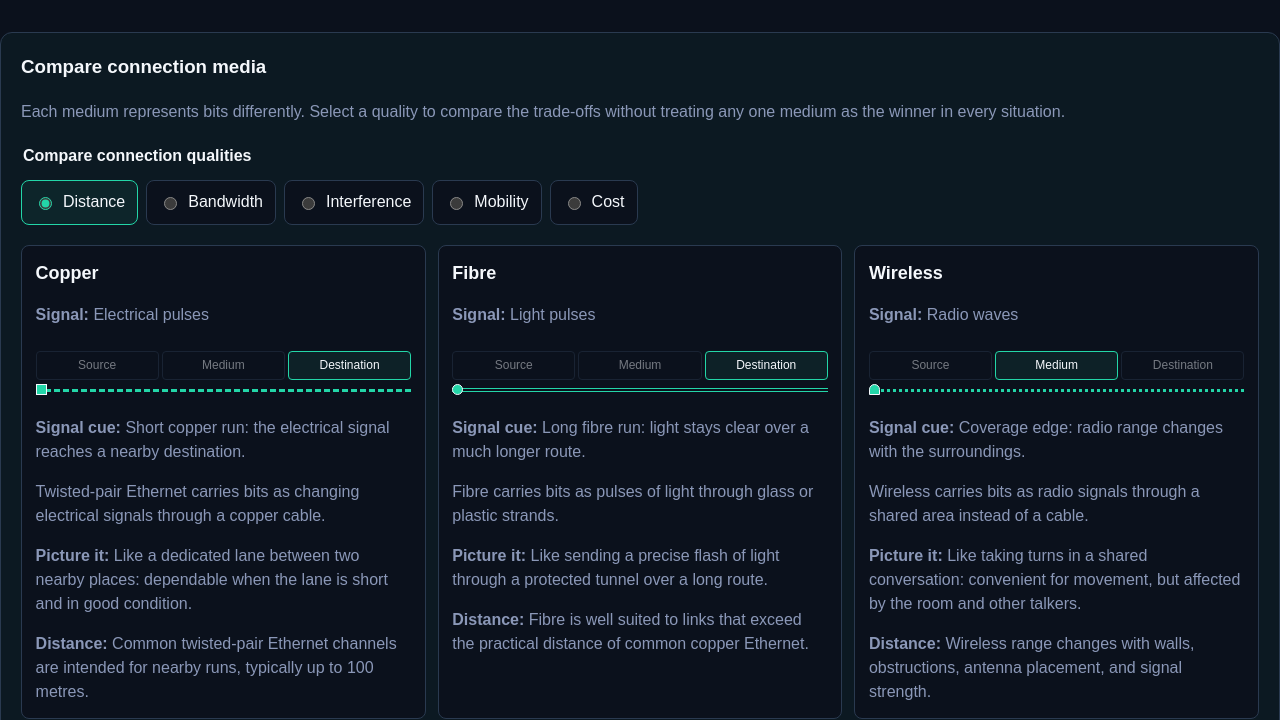
Test case: ConnectionMediaComparison › changes each panel's descriptive signal cue for every comparison quality
The width and height of the screenshot is (1280, 720).
Step 1. Click the radio button labelled "Distance" → (46, 204), box [39,197,52,210]
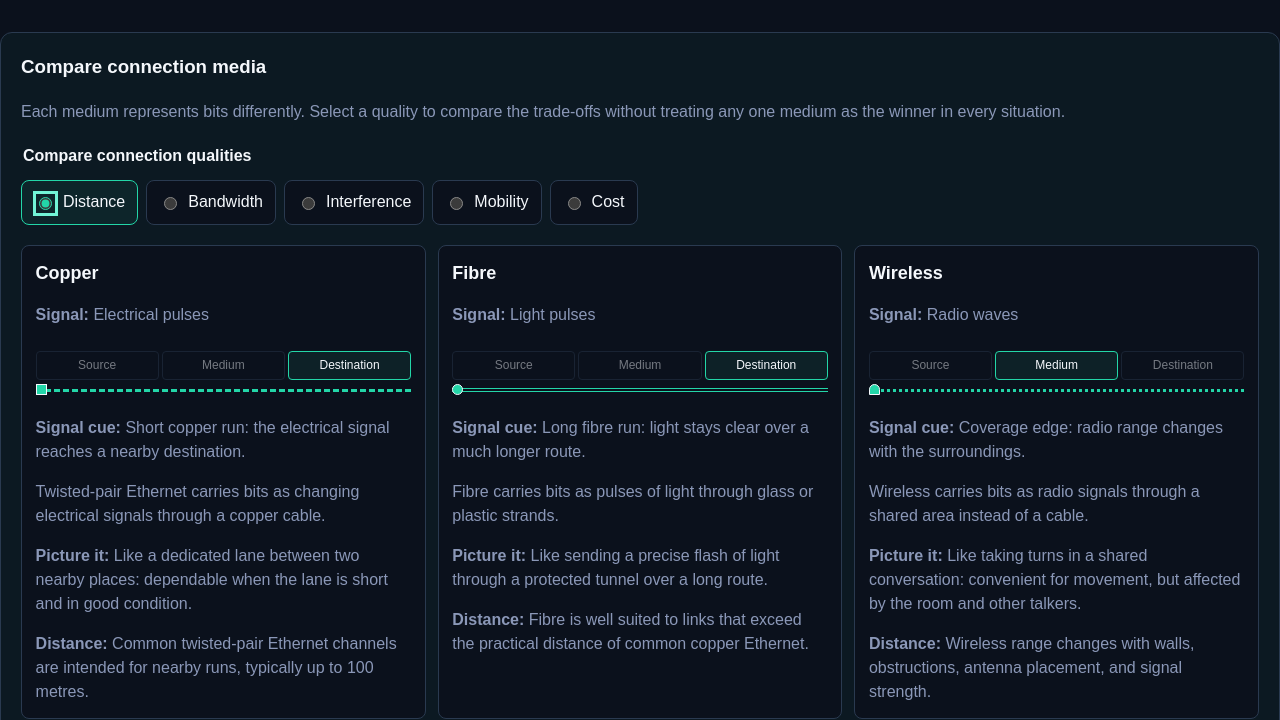
Expected: the element "Copper" is shown, [21,245,426,719]
Expected: the text "Short copper run: the electrical signal reaches a nearby destination." is shown, [36,419,390,460]
Step 2. Click the radio button labelled "Bandwidth" → (171, 204), box [164,197,177,210]
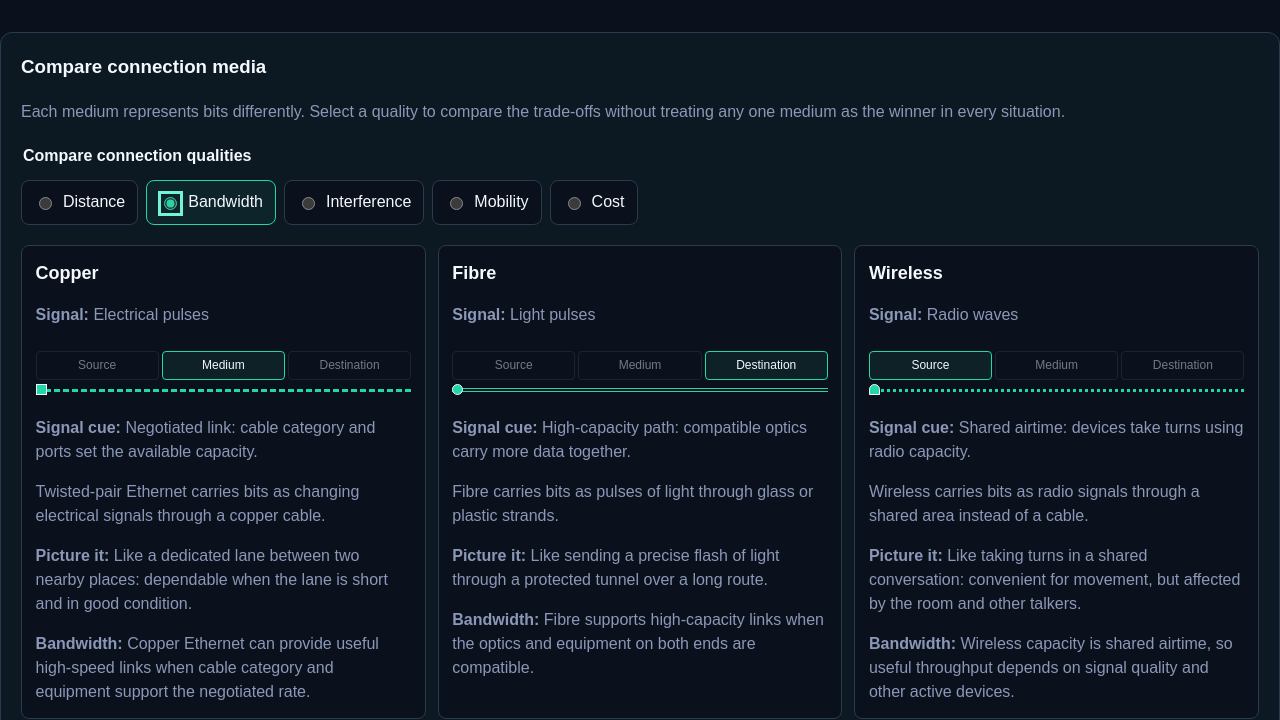
Now the text "Negotiated link: cable category and ports set the available capacity." is shown, box [36,419,375,460]
Now the text "High-capacity path: compatible optics carry more data together." is shown, box [452,419,807,460]
Now the text "Shared airtime: devices take turns using radio capacity." is shown, box [869,419,1243,460]
Step 3. Click the radio button labelled "Interference" → (308, 204), box [302,197,315,210]
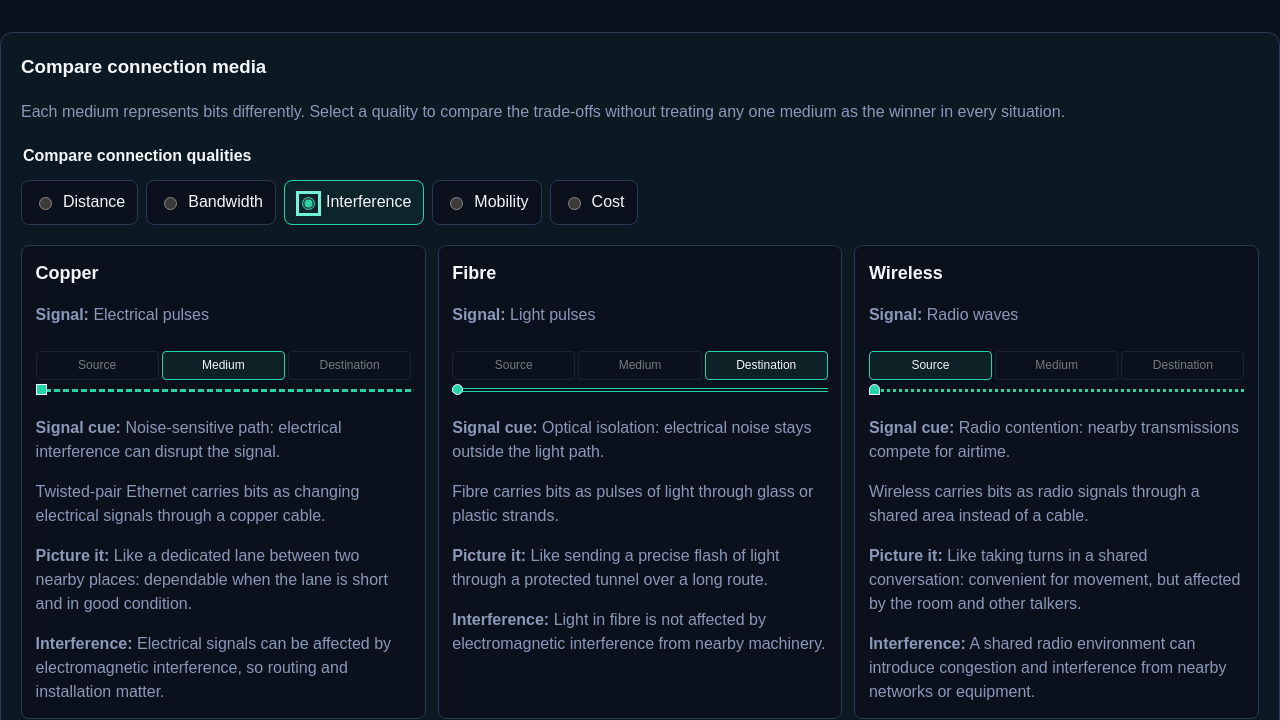
Now the text "Noise-sensitive path: electrical interference can disrupt the signal." is shown, box [36,419,342,460]
Now the text "Optical isolation: electrical noise stays outside the light path." is shown, box [452,419,812,460]
Now the text "Radio contention: nearby transmissions compete for airtime." is shown, box [869,419,1239,460]
Step 4. Click the radio button labelled "Mobility" → (457, 204), box [450,197,463,210]
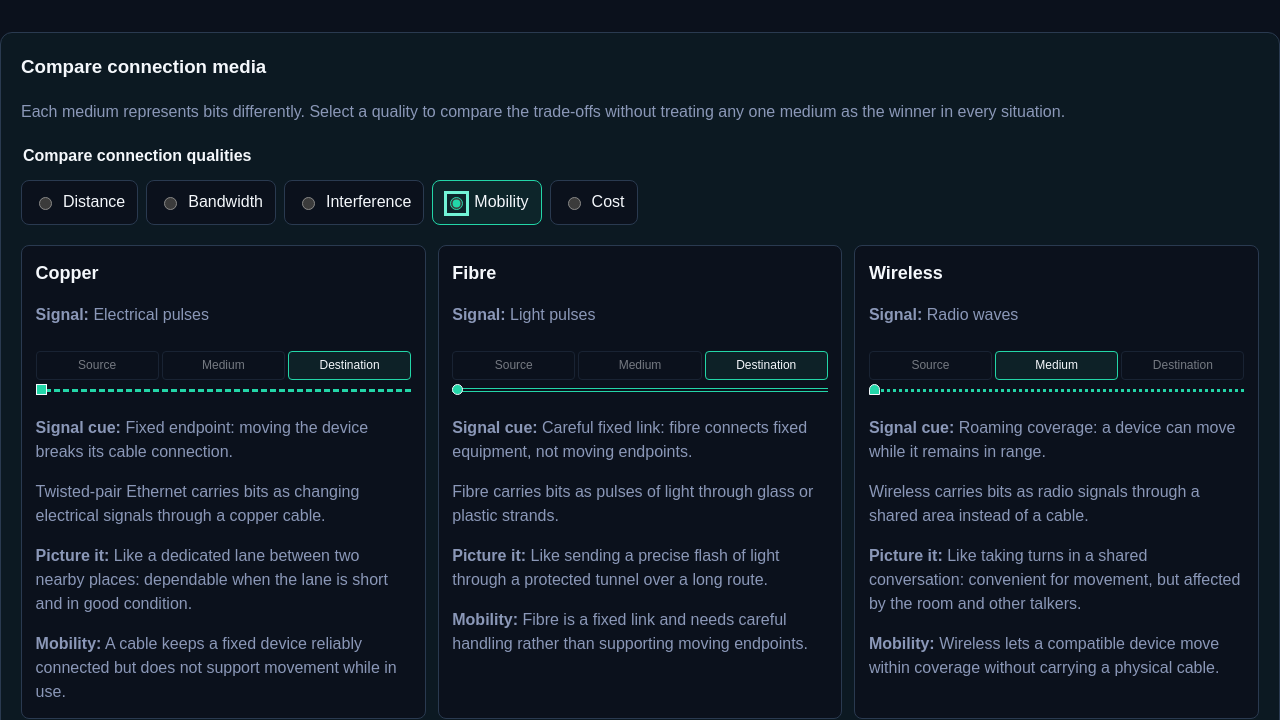
Now the text "Fixed endpoint: moving the device breaks its cable connection." is shown, box [36,419,368,460]
Now the text "Careful fixed link: fibre connects fixed equipment, not moving endpoints." is shown, box [452,419,807,460]
Now the text "Roaming coverage: a device can move while it remains in range." is shown, box [869,419,1235,460]
Step 5. Click the radio button labelled "Cost" → (574, 204), box [568,197,581,210]
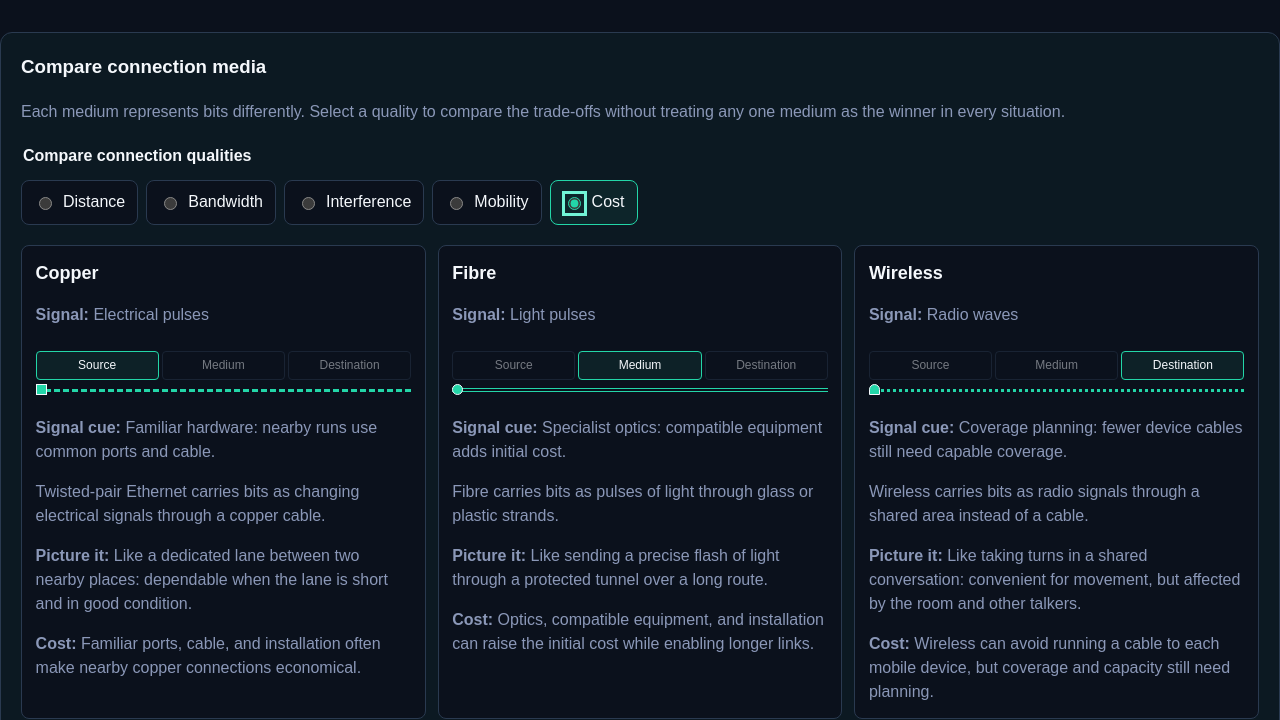
Now the text "Familiar hardware: nearby runs use common ports and cable." is shown, box [36,419,377,460]
Now the text "Specialist optics: compatible equipment adds initial cost." is shown, box [452,419,822,460]
Now the text "Coverage planning: fewer device cables still need capable coverage." is shown, box [869,419,1242,460]
